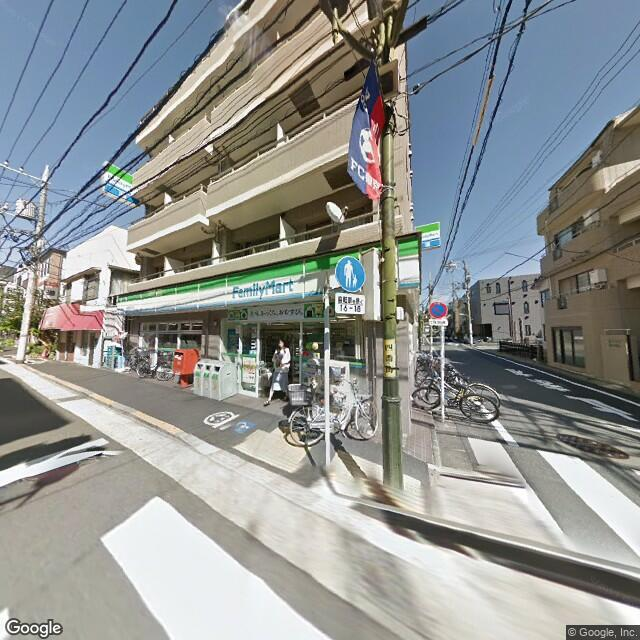family_mart: (115, 233, 419, 313), (101, 159, 136, 204), (417, 219, 442, 250)
